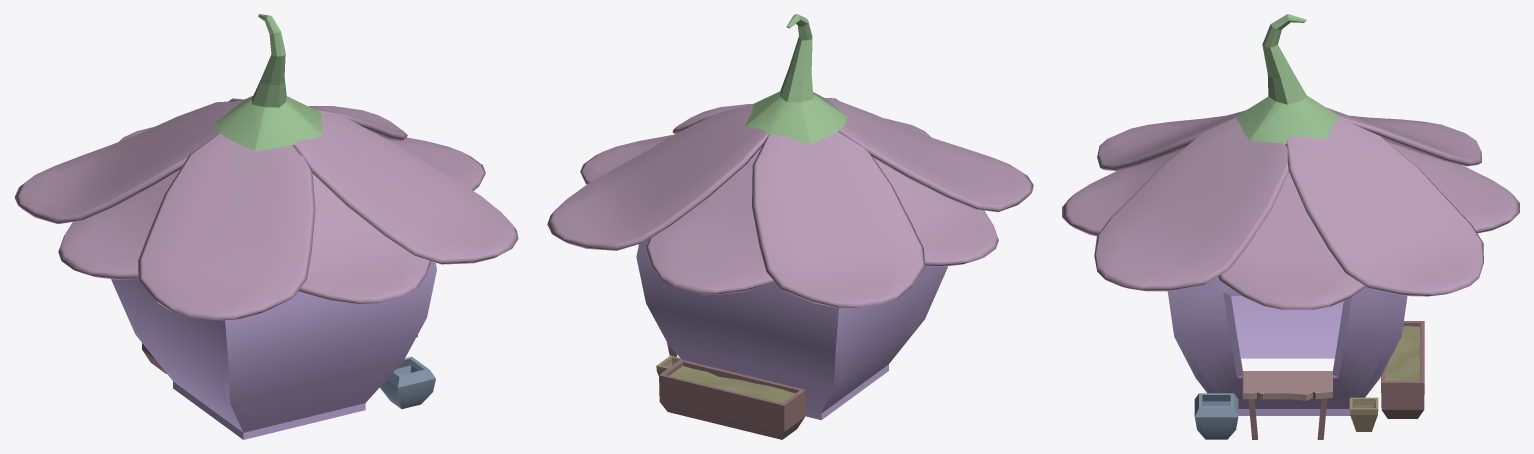
The model's file is floreria_BdS.fbx.
3 views of the same model, side by side, from view 1: azimuth 30°, elevation 25°; view 2: azimuth 150°, elevation 25°; view 3: azimuth 270°, elevation 25° (orthographic). The views are drawn at different scales.
Visible parts, largest first — view 1: pCube18; view 2: pCube18; view 3: pCube18.
Boxes of the visible parts, bbox=[...] form: pCube18: bbox=[14, 14, 518, 439]; pCube18: bbox=[547, 14, 1033, 439]; pCube18: bbox=[1062, 14, 1519, 439].
Size of the model in its own units: 29.6 by 26.29 by 29.18.
